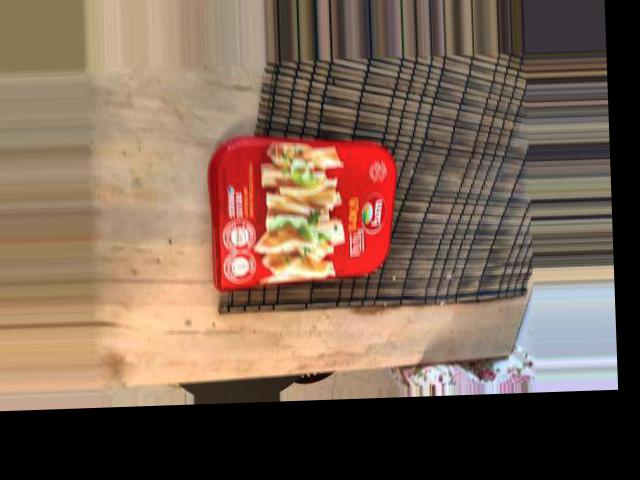cheese: (305, 75, 443, 254)
